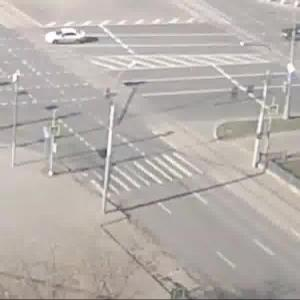car: (45, 29, 93, 51)
